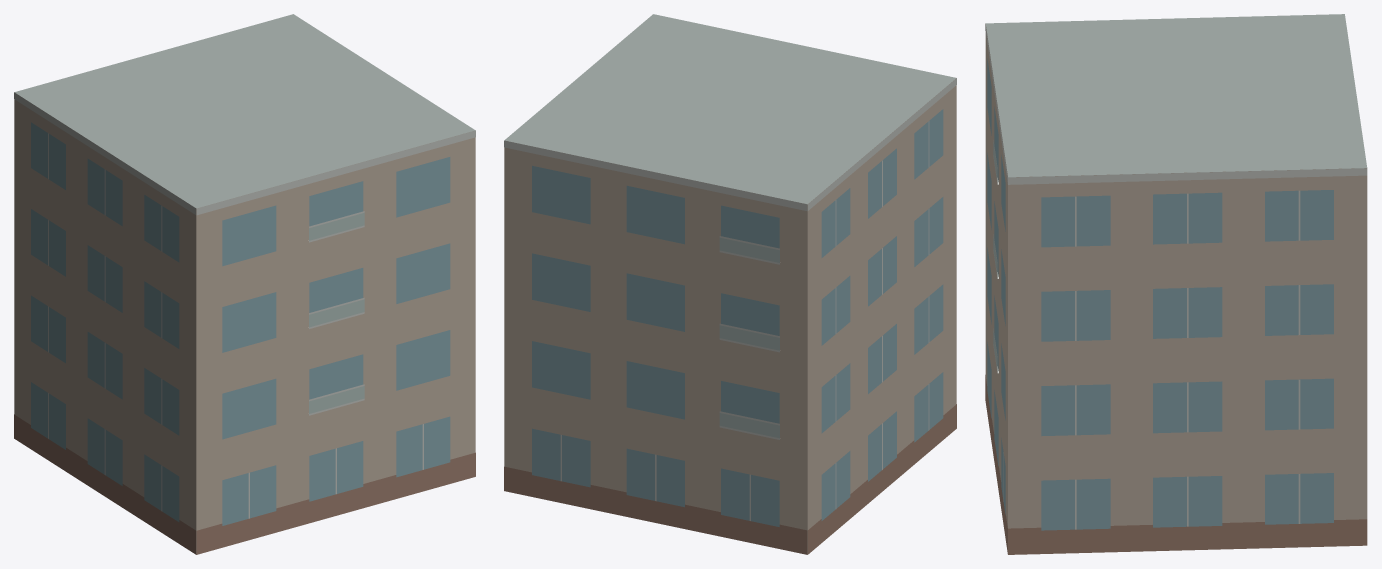
File: residential-241bd86c-f1b1-4ab5-855e-e9f5f95f1956.glb
3 views of the same model, side by side, from view 1: azimuth 30°, elevation 25°; view 2: azimuth 150°, elevation 25°; view 3: azimuth 270°, elevation 25° (orthographic). The views are drawn at different scales.
Visible parts, largest first — view 1: residential-241bd86c-f1b1-4ab5-855e-e9f5f95f1956.tmp; view 2: residential-241bd86c-f1b1-4ab5-855e-e9f5f95f1956.tmp; view 3: residential-241bd86c-f1b1-4ab5-855e-e9f5f95f1956.tmp.
Boxes of the visible parts, left/top/right/bottom form: residential-241bd86c-f1b1-4ab5-855e-e9f5f95f1956.tmp: left=14, top=14, right=475, bottom=554; residential-241bd86c-f1b1-4ab5-855e-e9f5f95f1956.tmp: left=504, top=14, right=956, bottom=554; residential-241bd86c-f1b1-4ab5-855e-e9f5f95f1956.tmp: left=985, top=14, right=1367, bottom=554.
Size of the model in its own units: 11.33 by 12.2 by 11.19.
